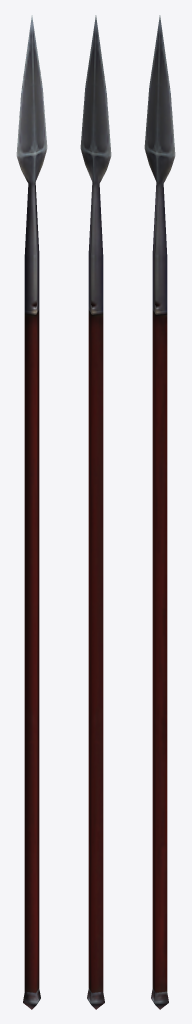
The model's file is Polearm08.FBX.
The picture shows the model from 3 angles, left to right: view 1: azimuth 30°, elevation 25°; view 2: azimuth 150°, elevation 25°; view 3: azimuth 330°, elevation 25°; orthographic projection.
Visible parts, largest first — view 1: Polearm08; view 2: Polearm08; view 3: Polearm08.
Boxes of the visible parts, x1,y1,x2,y2 form: Polearm08: (16, 15, 47, 1009); Polearm08: (80, 15, 111, 1009); Polearm08: (144, 15, 175, 1009).
Size of the model in its own units: 8.34 by 257 by 4.94.
